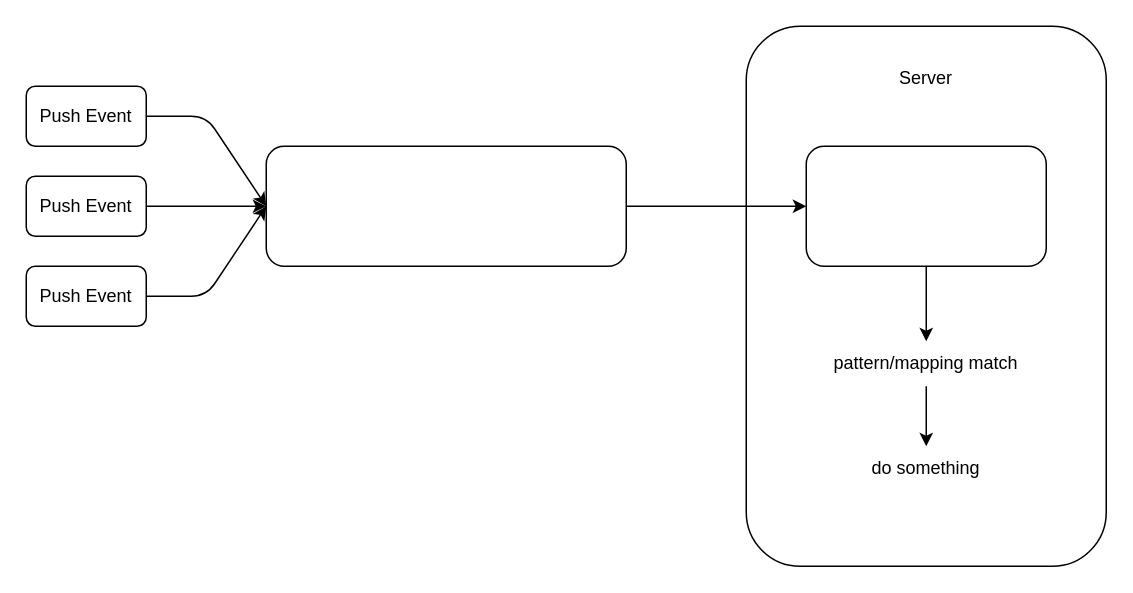
Some shapes in this 1133 by 593 pixel diagram are drawn without their labels. The shapes that lost their labels are listed below. From the top down, each one's centre as x and y in pixels, then its label:
the point at 445,205: Git Service set webhook to git-webhook-receiver
the point at 925,205: git-webhook-receiver
